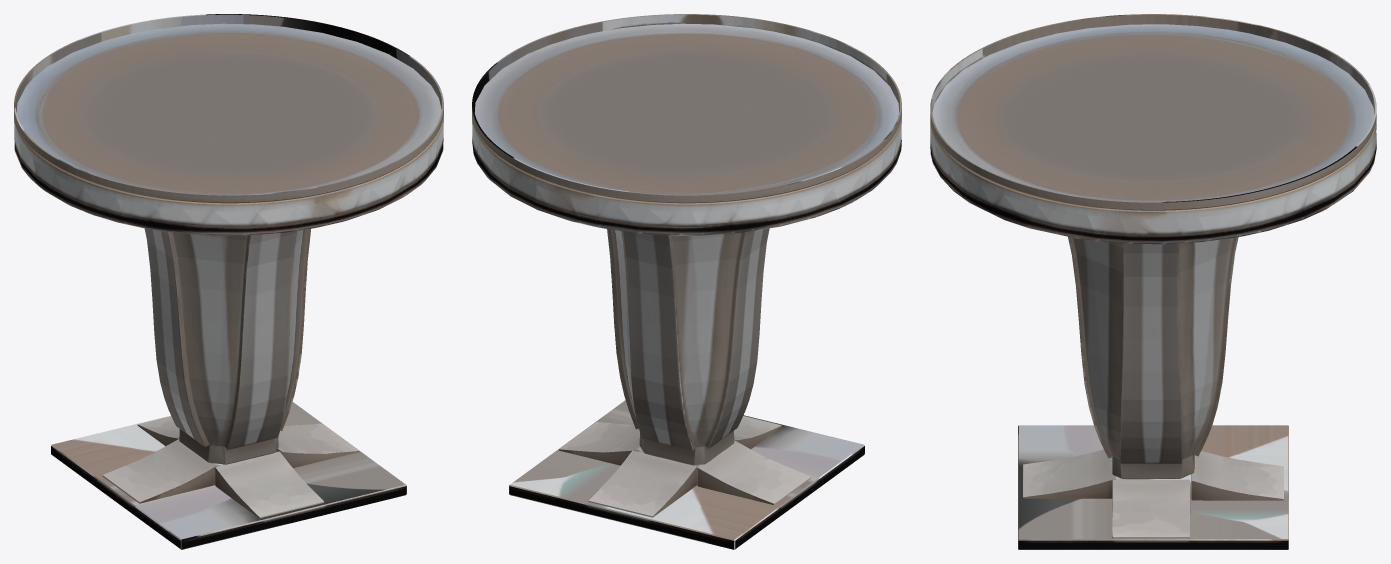
The model's file is edited_mesh.glb.
3 renders of one model, left to right at view 1: azimuth 30°, elevation 25°; view 2: azimuth 150°, elevation 25°; view 3: azimuth 270°, elevation 25°, orthographic. The views are drawn at different scales.
Parts seen in each view (by area): view 1: solid_001_wire; view 2: solid_001_wire; view 3: solid_001_wire.
Part boxes in pixels (left/top/right/bottom): solid_001_wire: left=14, top=14, right=443, bottom=549; solid_001_wire: left=472, top=14, right=901, bottom=549; solid_001_wire: left=930, top=14, right=1376, bottom=549.
Bounding box in the file's own units: 1.38 × 1.31 × 1.38.
1 material, 1 textured.
